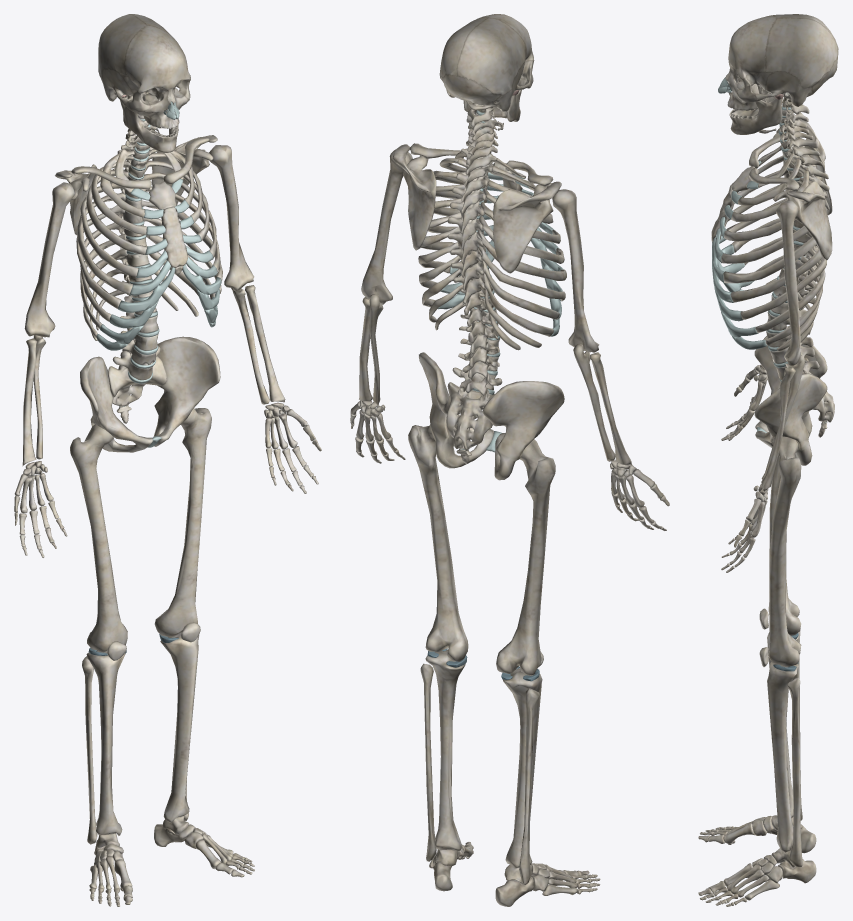
Rendered from 03-01-skeleton.glb.
3 renders of one model, left to right at view 1: azimuth 30°, elevation 25°; view 2: azimuth 150°, elevation 25°; view 3: azimuth 270°, elevation 25°, orthographic. The views are drawn at different scales.
Visible parts, largest first — view 1: Right_femur, Left_femur, Left_hip_bone__os_coxa_or_innominate_bone_, Left_tibia, Frontal_bone, Right_tibia, Right_hip_bone__os_coxa_or_innominate_bone_, Right_humerus, Left_humerus, Right_parietal_bone, Sacrum, Right_fibula (+18 smaller); view 2: Right_femur, Left_femur, Right_hip_bone__os_coxa_or_innominate_bone_, Right_parietal_bone, Right_scapula, Left_tibia, Right_tibia, Left_hip_bone__os_coxa_or_innominate_bone_, Right_humerus, Left_scapula, Left_humerus, Sacrum (+14 smaller); view 3: Left_femur, Left_parietal_bone, Left_tibia, Left_hip_bone__os_coxa_or_innominate_bone_, Left_humerus, Frontal_bone, Left_scapula, Left_fibula, Mandible, Right_hip_bone__os_coxa_or_innominate_bone_, Left_temporal_bone, Right_femur (+26 smaller).
Boxes of the visible parts, box(x1,y1,x2,y2) form: Right_femur: box(70, 424, 127, 652); Left_femur: box(154, 408, 211, 637); Left_hip_bone__os_coxa_or_innominate_bone_: box(153, 336, 220, 446); Left_tibia: box(160, 632, 199, 823); Frontal_bone: box(124, 25, 190, 92); Right_tibia: box(86, 650, 125, 835); Right_hip_bone__os_coxa_or_innominate_bone_: box(80, 356, 152, 452); Right_humerus: box(24, 182, 75, 337); Left_humerus: box(209, 145, 254, 291); Right_parietal_bone: box(98, 14, 147, 76); Sacrum: box(108, 356, 166, 406); Right_fibula: box(82, 656, 97, 844); Right_femur: box(496, 439, 555, 675); Left_femur: box(408, 424, 468, 661); Right_hip_bone__os_coxa_or_innominate_bone_: box(482, 381, 564, 480); Right_parietal_bone: box(457, 17, 526, 94); Right_scapula: box(493, 181, 561, 273); Left_tibia: box(425, 649, 465, 851); Right_tibia: box(502, 668, 542, 868); Left_hip_bone__os_coxa_or_innominate_bone_: box(419, 352, 493, 468); Right_humerus: box(552, 189, 599, 352); Left_scapula: box(392, 144, 436, 250); Left_humerus: box(361, 149, 412, 304); Sacrum: box(446, 382, 494, 451); Left_femur: box(769, 436, 801, 666); Left_parietal_bone: box(765, 18, 837, 88); Left_tibia: box(767, 662, 798, 852); Left_hip_bone__os_coxa_or_innominate_bone_: box(754, 373, 827, 465); Left_humerus: box(776, 200, 800, 365); Frontal_bone: box(728, 15, 776, 79); Left_scapula: box(773, 181, 832, 260); Left_fibula: box(786, 677, 802, 867); Mandible: box(729, 92, 782, 134); Right_hip_bone__os_coxa_or_innominate_bone_: box(754, 336, 827, 436); Left_temporal_bone: box(754, 71, 812, 106); Right_femur: box(768, 455, 801, 635).
Size of the model in its own units: 0.6477 by 1.69 by 0.2531.
Materials: 264 (264 with a texture image).
